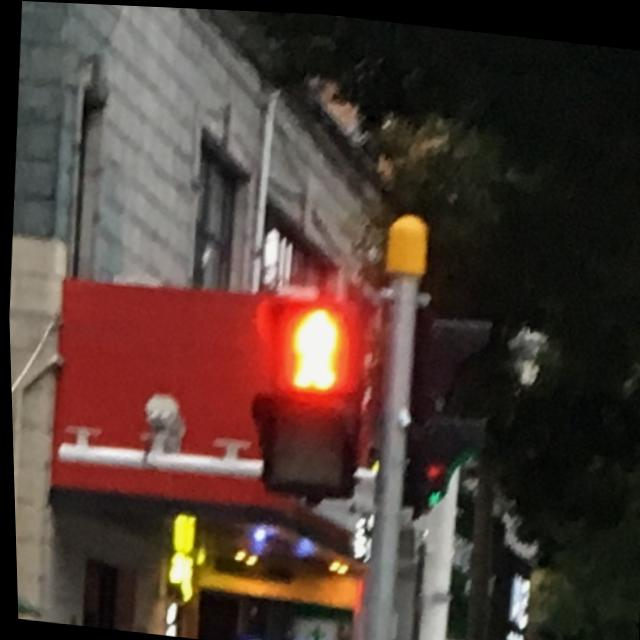red_light: (268, 300, 356, 396)
